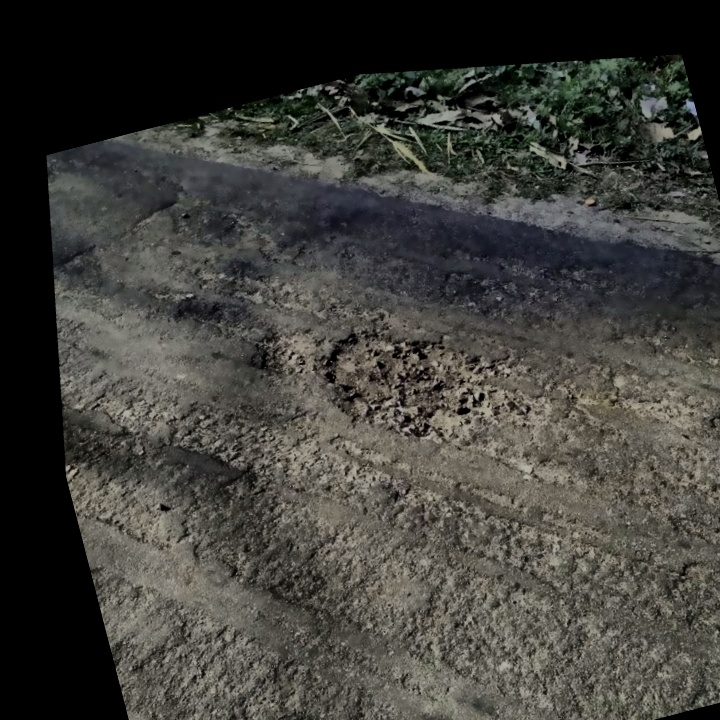pothole: (296, 280, 546, 490)
